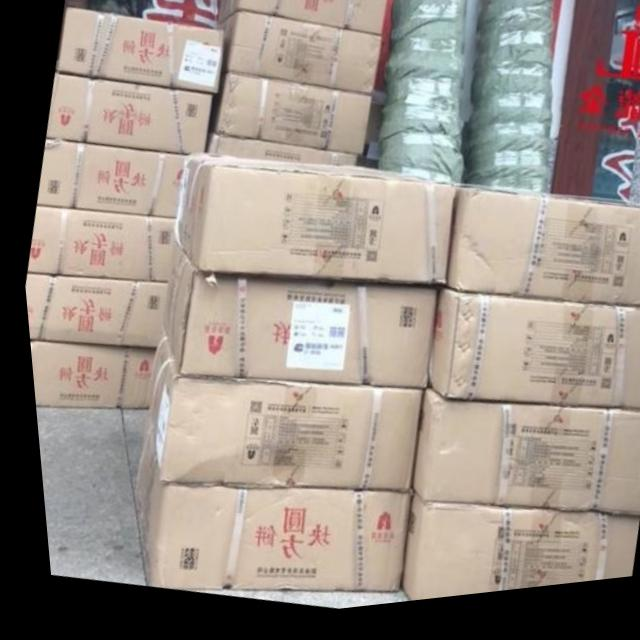box: (124, 420, 402, 600), (138, 335, 415, 499), (153, 247, 431, 396), (168, 156, 452, 295), (401, 395, 640, 529), (420, 295, 640, 424), (388, 500, 629, 609), (439, 194, 640, 320), (55, 9, 223, 98), (215, 15, 381, 102), (207, 76, 369, 163), (44, 74, 209, 159), (34, 139, 182, 221), (23, 207, 170, 286), (20, 272, 161, 350), (24, 339, 149, 411), (216, 0, 387, 43), (202, 133, 354, 174)
